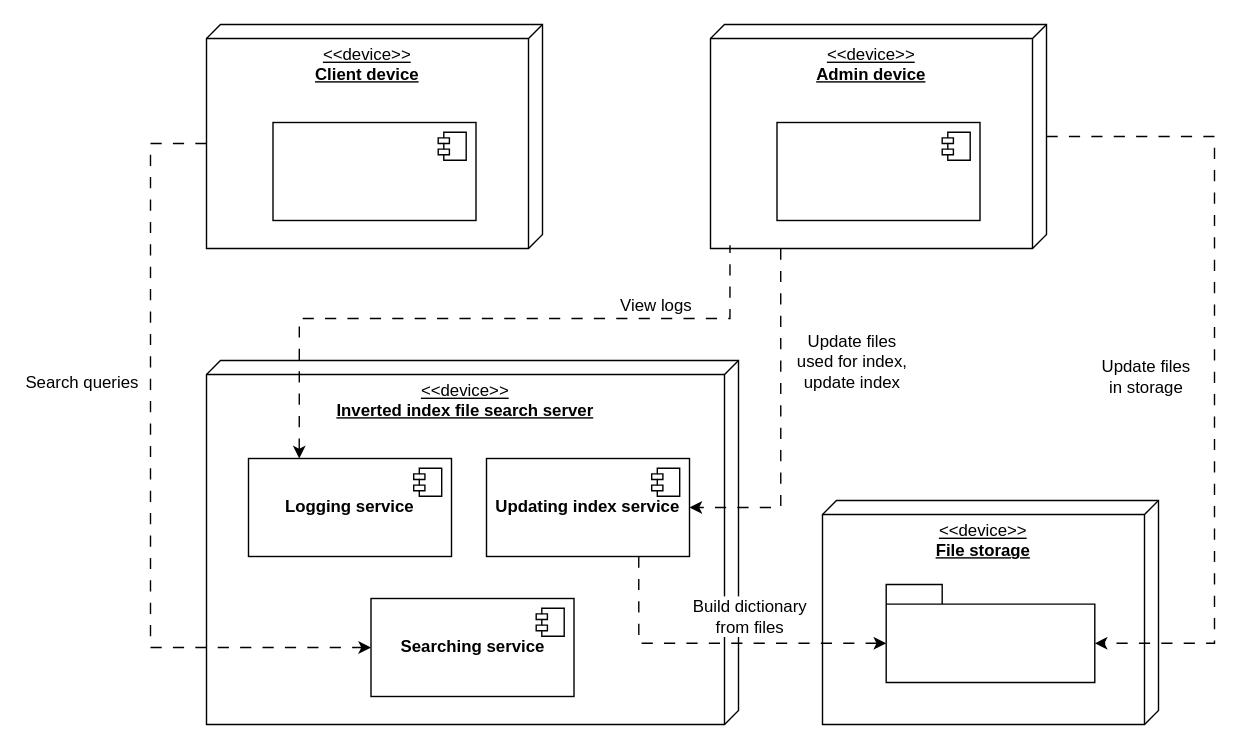
The diagram is 1250 pixels wide and 749 high, and some of its shapes have lost their labels. Each missing label, with the centre of its shape:
Admin interface: pixel 878 170
Client interface: pixel 374 170
Saved files: pixel 990 632
